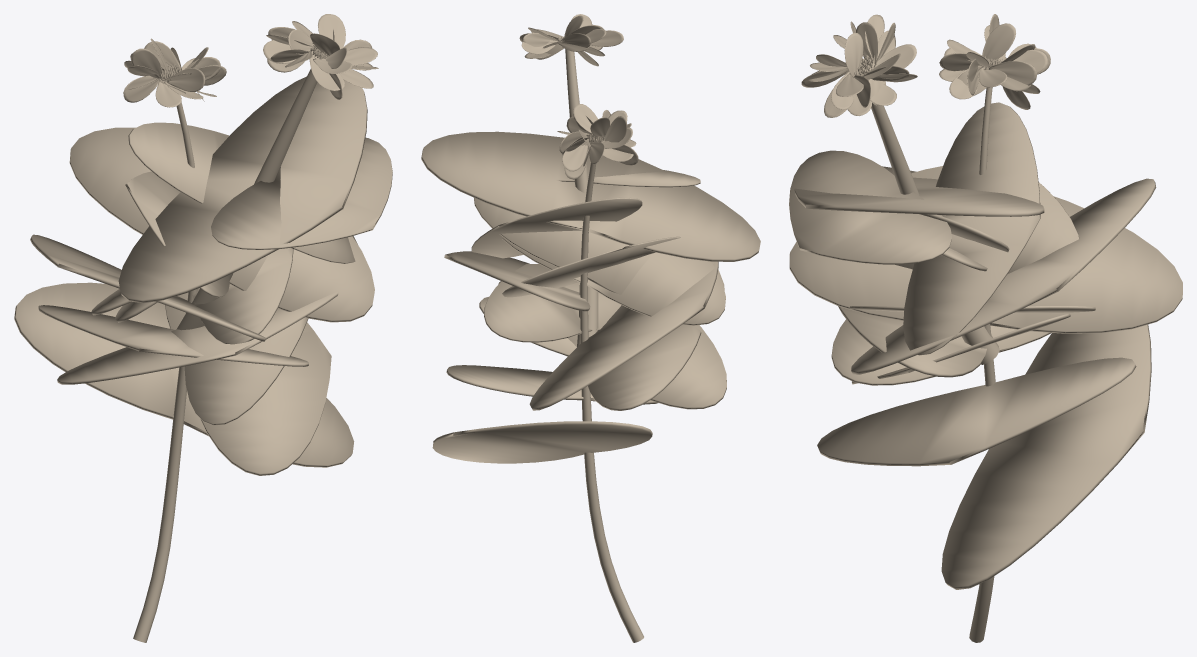
The model's file is 3dcodebench_FlowerPlant_seed0.glb.
3 renders of one model, left to right at view 1: azimuth 30°, elevation 25°; view 2: azimuth 150°, elevation 25°; view 3: azimuth 270°, elevation 25°, orthographic. The views are drawn at different scales.
Visible parts, largest first — view 1: object; view 2: object; view 3: object.
Boxes of the visible parts, <box> form: object: <box>14,14,392,642</box>; object: <box>421,14,760,642</box>; object: <box>789,14,1182,642</box>.
Bounding box in the file's own units: 0.55 × 1.06 × 0.5633.
